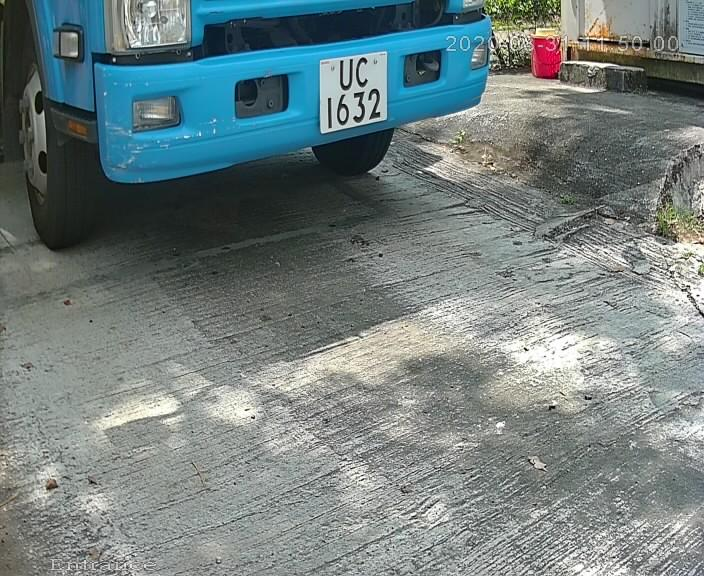Car: (23, 8, 494, 245)
License Plate: (309, 37, 397, 150)
